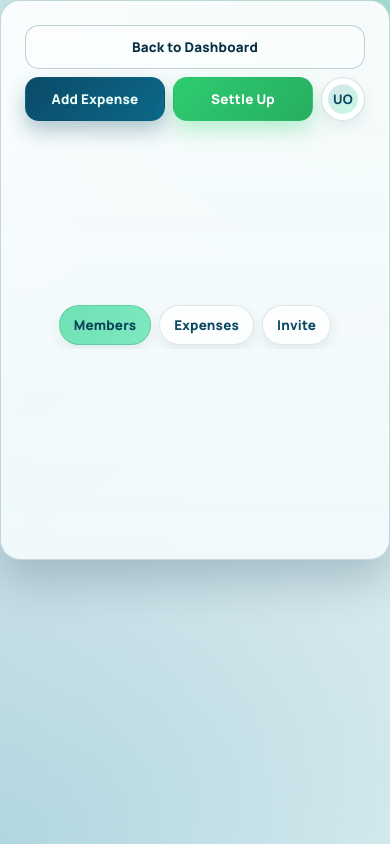
Test: GroupView › does not show the Recent Expenses pager when there are no visible recent expenses
Click the button "Expenses": [207, 325] box [159, 305, 254, 345]
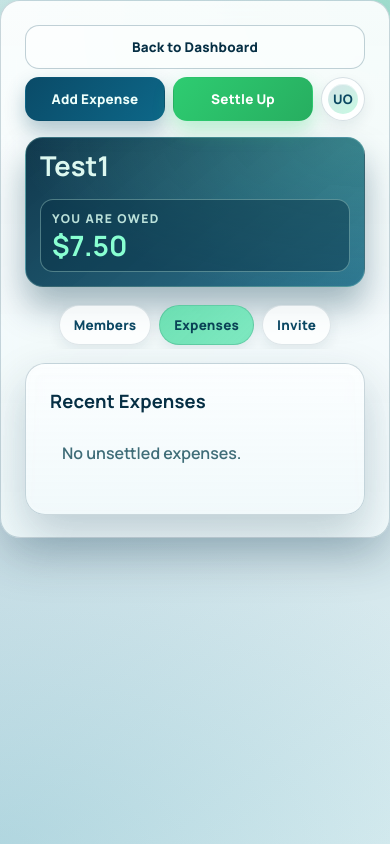
expect the text "No unsettled expenses." is shown: met, box [62, 442, 241, 464]
